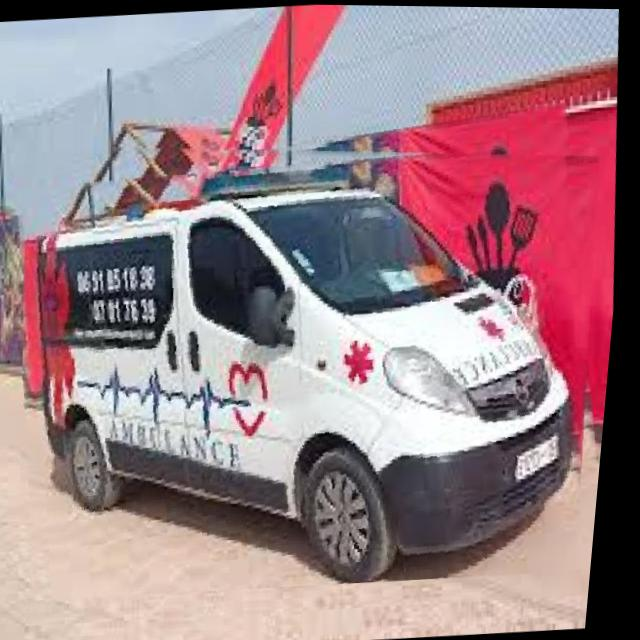ambulance: (0, 104, 633, 607)
